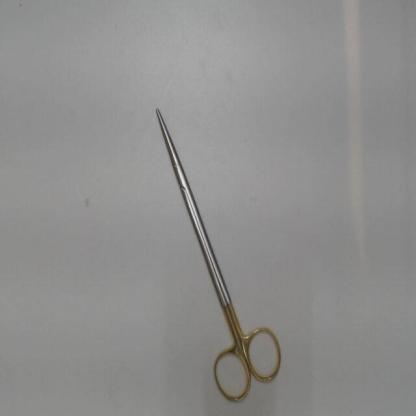7 Metzenbaum Scissors: (150, 99, 286, 410)
